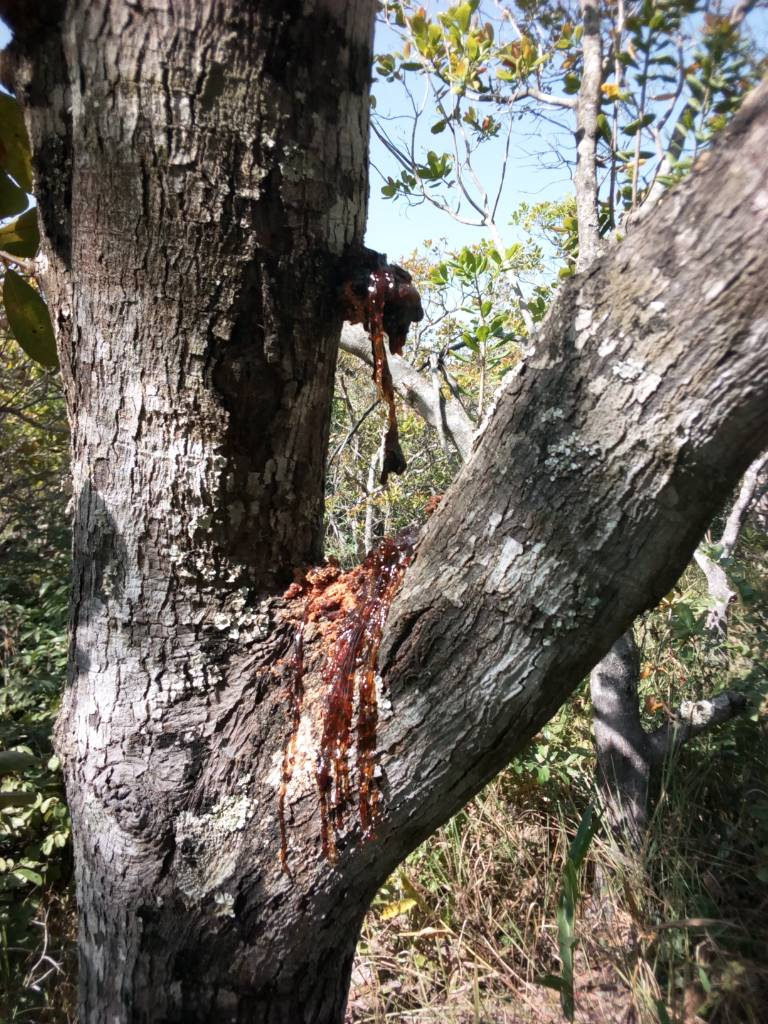Apate terebrans: (196, 217, 519, 853)
